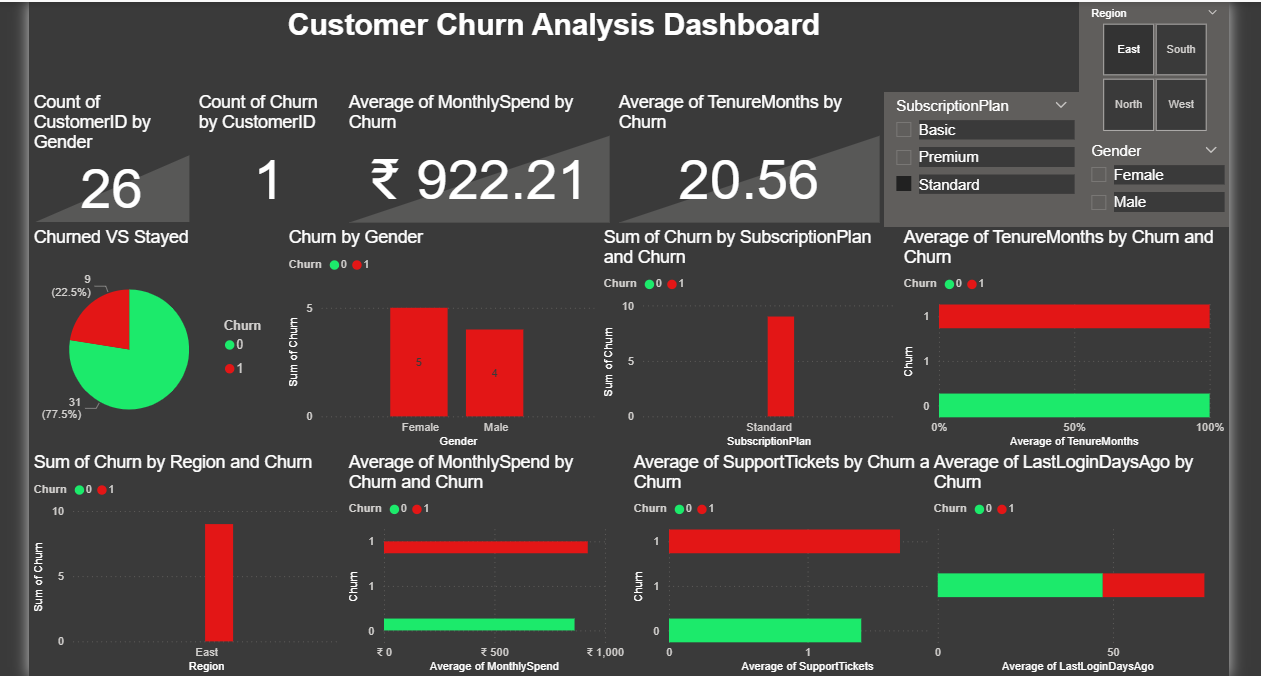

The dashboard page shown, as its layout file describes it:
{"tool":"powerbi","page":{"name":"Page 1","canvas":[1280,720],"ordinal":0},"visuals":[{"type":"pieChart","title":" Churned VS Stayed","fields":{"Category":["Sheet1.Churn"],"Y":["CountNonNull(Sheet1.CustomerID)"]},"box":[0,240,272,240],"z":0},{"type":"columnChart","title":"Churn by Gender","fields":{"Y":["Sum(Sheet1.Churn)"],"Category":["Sheet1.Gender"],"Series":["Sheet1.Churn"]},"box":[272,240,336,240],"z":1000},{"type":"clusteredColumnChart","fields":{"Category":["Sheet1.SubscriptionPlan"],"Y":["Sum(Sheet1.Churn)"],"Series":["Sheet1.Churn"]},"box":[608,240,320,240],"z":2000},{"type":"clusteredColumnChart","fields":{"Category":["Sheet1.Region"],"Y":["Sum(Sheet1.Churn)"],"Series":["Sheet1.Churn"]},"box":[0,480,336,240],"z":3000},{"type":"clusteredBarChart","fields":{"Y":["Avg(Sheet1.MonthlySpend)"],"Category":["Sheet1.Churn"],"Series":["Sheet1.Churn"]},"box":[336,480,304,240],"z":4000},{"type":"barChart","fields":{"Y":["Avg(Sheet1.SupportTickets)"],"Category":["Sheet1.Churn"],"Series":["Sheet1.Churn"]},"box":[640,480,352,240],"z":5000},{"type":"hundredPercentStackedBarChart","fields":{"Y":["Avg(Sheet1.TenureMonths)"],"Category":["Sheet1.Churn"],"Series":["Sheet1.Churn"]},"box":[928,240,352,240],"z":6000},{"type":"barChart","fields":{"Y":["Avg(Sheet1.LastLoginDaysAgo)"],"Series":["Sheet1.Churn"]},"box":[960,480,320,240],"z":7000},{"type":"kpi","fields":{"Indicator":["CountNonNull(Sheet1.CustomerID)"],"TrendLine":["Sheet1.Gender"]},"box":[0,96,176,144],"z":8000},{"type":"kpi","fields":{"Indicator":["CountNonNull(Sheet1.Churn)"],"TrendLine":["Sheet1.CustomerID"]},"box":[176,96,160,144],"z":9000},{"type":"kpi","fields":{"Indicator":["Avg(Sheet1.MonthlySpend)"],"TrendLine":["Sheet1.Churn"]},"box":[336,96,288,144],"z":10000},{"type":"kpi","fields":{"Indicator":["Avg(Sheet1.TenureMonths)"],"TrendLine":["Sheet1.Churn"]},"box":[624,96,288,144],"z":11000},{"type":"slicer","fields":{"Values":["Sheet1.Gender"]},"box":[1120,144,160,96],"z":12000},{"type":"slicer","fields":{"Values":["Sheet1.Region"]},"box":[1120,0,160,144],"z":13000},{"type":"slicer","fields":{"Values":["Sheet1.SubscriptionPlan"]},"box":[912,96,208,144],"z":14000},{"type":"textbox","box":[0,0,1120,96],"z":15000}]}

Visuals, with their boxes in screenshot pixels (x1, y1, x2, y2):
" Churned VS Stayed" pieChart: pyautogui.locateOnScreen(39, 236, 291, 458)
"Churn by Gender" columnChart: pyautogui.locateOnScreen(291, 236, 603, 458)
clusteredColumnChart - Sheet1.SubscriptionPlan x Sum(Sheet1.Churn): pyautogui.locateOnScreen(603, 236, 899, 458)
clusteredColumnChart - Sheet1.Region x Sum(Sheet1.Churn): pyautogui.locateOnScreen(39, 458, 351, 675)
clusteredBarChart - Avg(Sheet1.MonthlySpend) x Sheet1.Churn: pyautogui.locateOnScreen(351, 458, 632, 675)
barChart - Avg(Sheet1.SupportTickets) x Sheet1.Churn: pyautogui.locateOnScreen(632, 458, 959, 675)
hundredPercentStackedBarChart - Avg(Sheet1.TenureMonths) x Sheet1.Churn: pyautogui.locateOnScreen(899, 236, 1225, 458)
barChart - Avg(Sheet1.LastLoginDaysAgo) x Sheet1.Churn: pyautogui.locateOnScreen(929, 458, 1225, 675)
kpi - CountNonNull(Sheet1.CustomerID) x Sheet1.Gender: pyautogui.locateOnScreen(39, 102, 202, 236)
kpi - CountNonNull(Sheet1.Churn) x Sheet1.CustomerID: pyautogui.locateOnScreen(202, 102, 351, 236)
kpi - Avg(Sheet1.MonthlySpend) x Sheet1.Churn: pyautogui.locateOnScreen(351, 102, 618, 236)
kpi - Avg(Sheet1.TenureMonths) x Sheet1.Churn: pyautogui.locateOnScreen(618, 102, 884, 236)
slicer - Sheet1.Gender: pyautogui.locateOnScreen(1077, 147, 1225, 236)
slicer - Sheet1.Region: pyautogui.locateOnScreen(1077, 13, 1225, 147)
slicer - Sheet1.SubscriptionPlan: pyautogui.locateOnScreen(884, 102, 1077, 236)
textbox: pyautogui.locateOnScreen(39, 13, 1077, 102)
